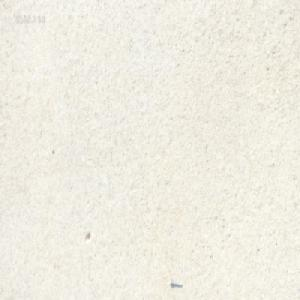Nail: (169, 278, 182, 286)
